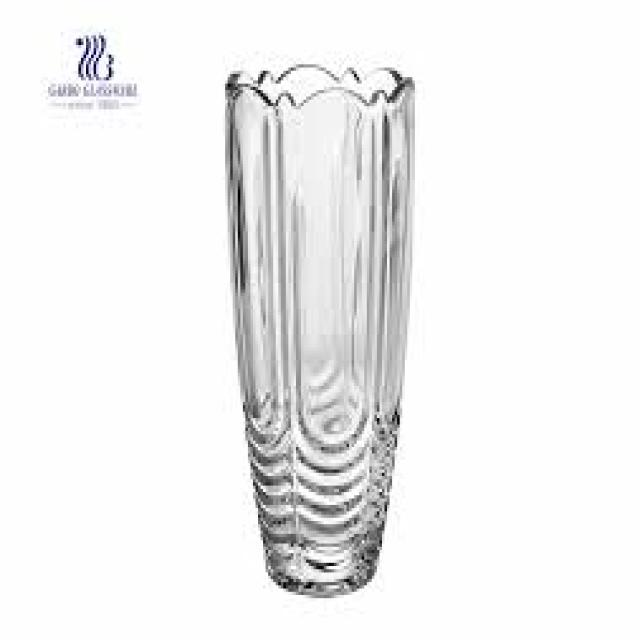glass: (223, 61, 410, 595)
